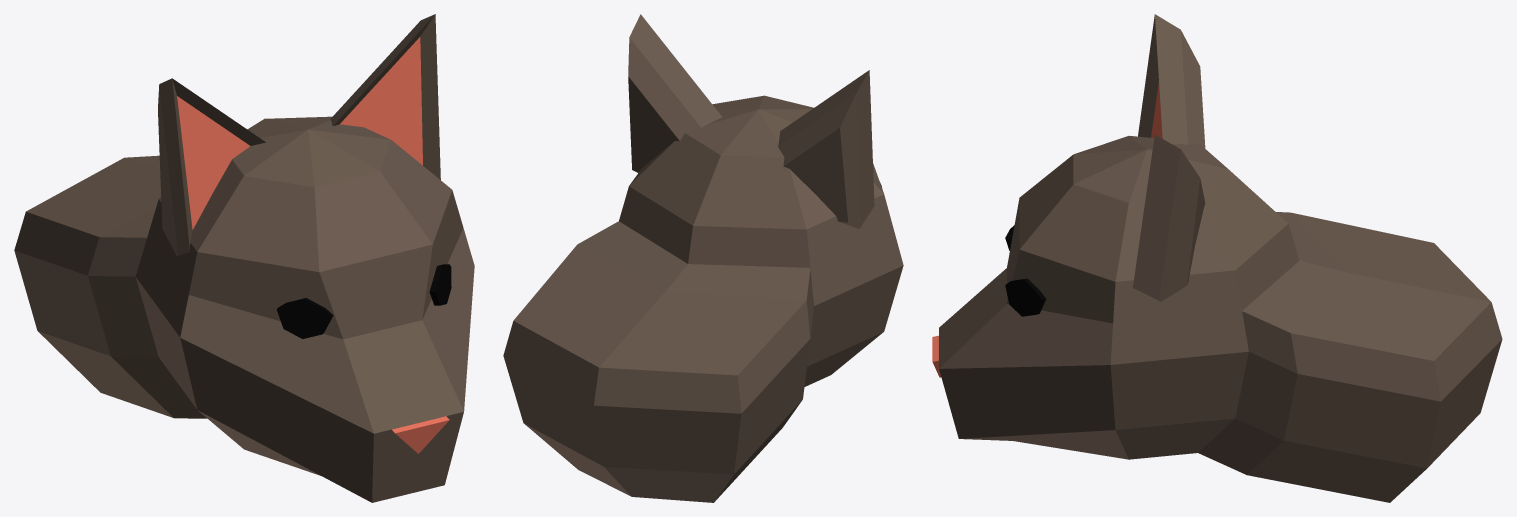
File: cachorro.fbx
3 renders of one model, left to right at view 1: azimuth 30°, elevation 25°; view 2: azimuth 150°, elevation 25°; view 3: azimuth 270°, elevation 25°, orthographic. The views are drawn at different scales.
Visible parts, largest first — view 1: Sphere, Plane, Circle, Circle.001; view 2: Sphere, Plane; view 3: Sphere, Plane, Circle.
Part boxes in pixels (x1,y1,x2,y2): Sphere: (14,116,474,502); Plane: (158,14,440,256); Circle: (276,264,451,338); Circle.001: (392,416,449,453); Sphere: (503,95,903,502); Plane: (628,14,874,228); Sphere: (939,135,1502,502); Plane: (1133,14,1205,301); Circle: (1005,225,1045,316).
Size of the model in its own units: 29.25 by 39.81 by 52.31.
